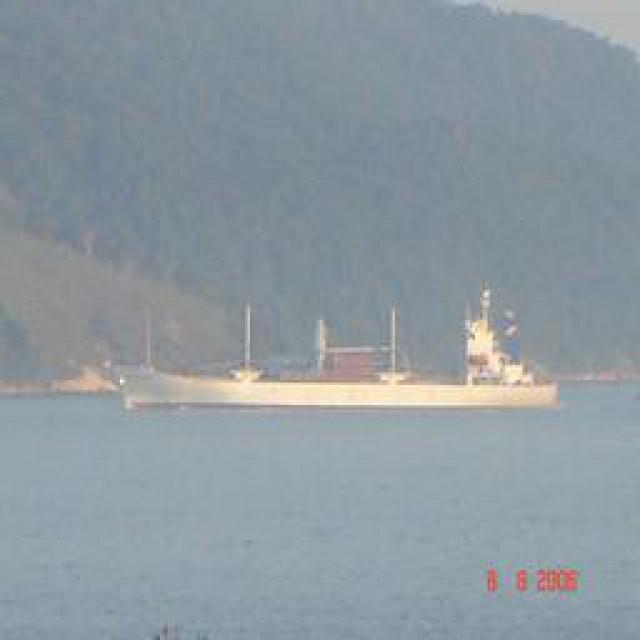Ship: (123, 302, 561, 412)
